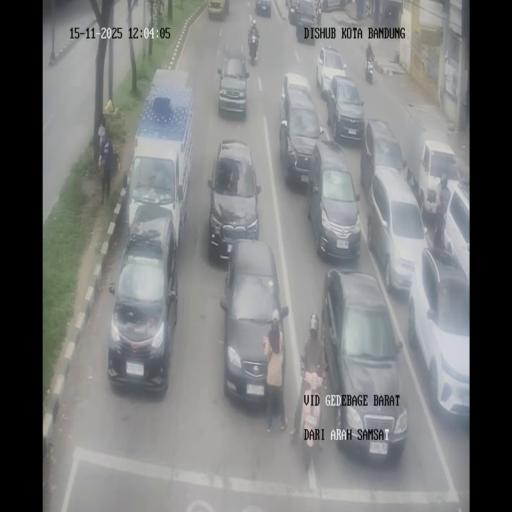car: (322, 270, 406, 461), (106, 207, 181, 392), (220, 238, 286, 406), (408, 246, 469, 425), (367, 166, 426, 294), (207, 137, 262, 263), (308, 139, 361, 262), (279, 74, 322, 186), (216, 41, 250, 119), (316, 46, 346, 98), (292, 0, 322, 41), (207, 0, 229, 21), (255, 0, 271, 17)
motorcycle: (248, 34, 259, 66), (364, 53, 374, 84), (364, 0, 371, 18)
